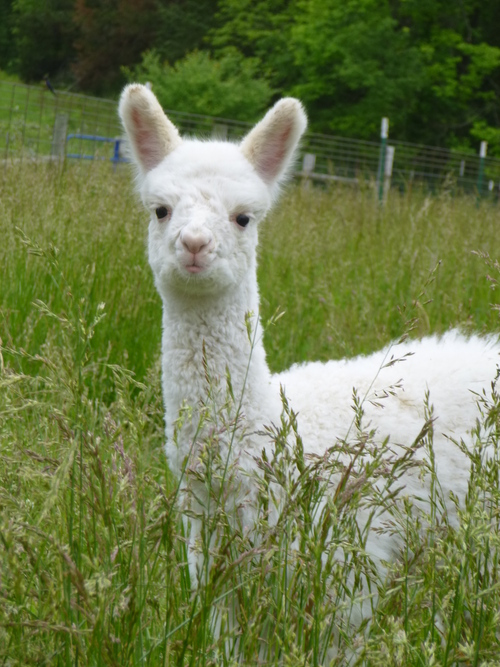alpaca: (118, 81, 500, 665)
